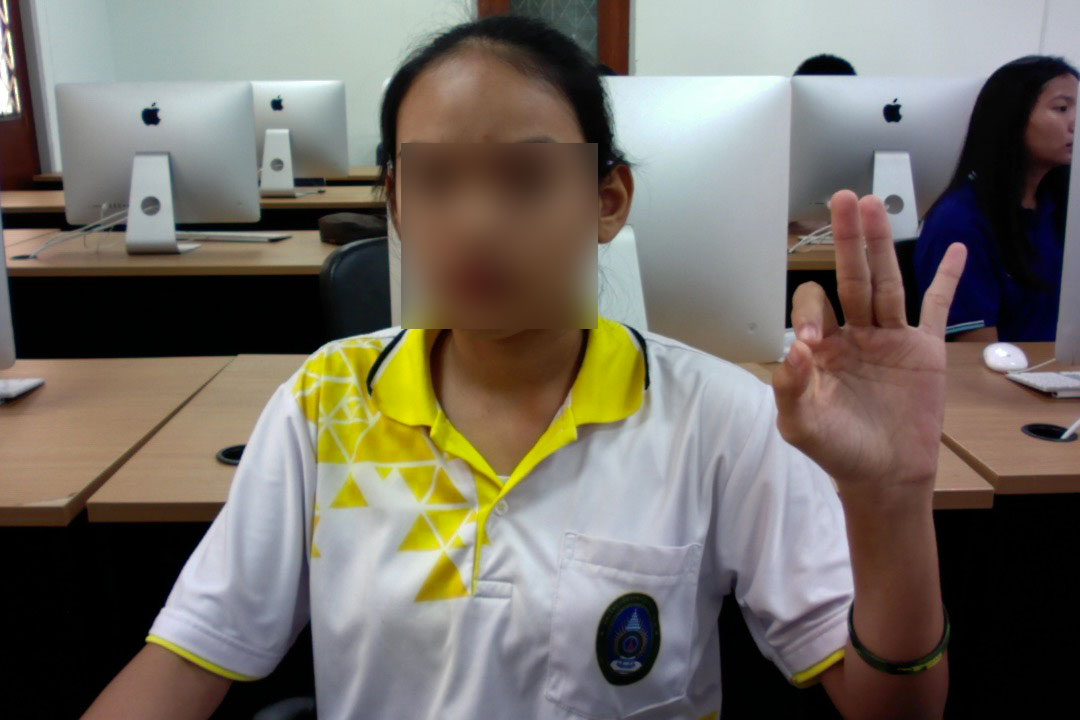for: (764, 176, 973, 551)
